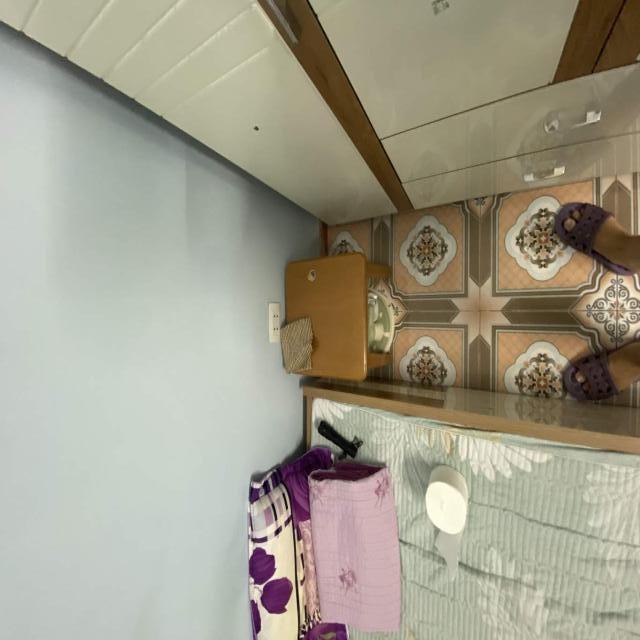outlet: (268, 302, 280, 343)
